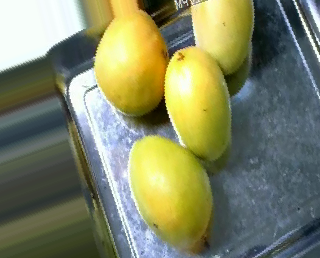Mango: (127, 134, 214, 244), (94, 8, 168, 116), (163, 48, 233, 160), (190, 0, 255, 76)
